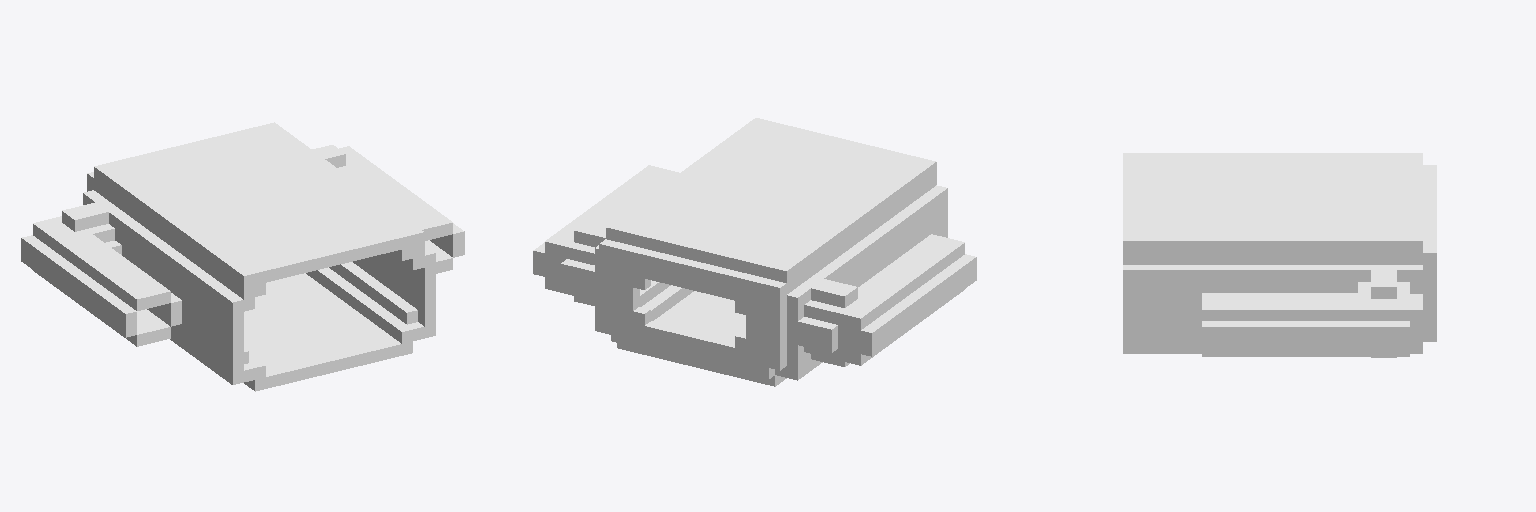
Rendered from GildedArmor.obj.
3 renders of one model, left to right at view 1: azimuth 30°, elevation 25°; view 2: azimuth 150°, elevation 25°; view 3: azimuth 270°, elevation 25°, orthographic.
Parts seen in each view (by area): view 1: object 1; view 2: object 1; view 3: object 1.
Boxes of the visible parts, box(x1,y1,x2,y2) form: object 1: box(21, 122, 464, 391); object 1: box(533, 118, 976, 386); object 1: box(1123, 153, 1436, 357).
Bounding box in the file's own units: 3 × 1 × 2.4.